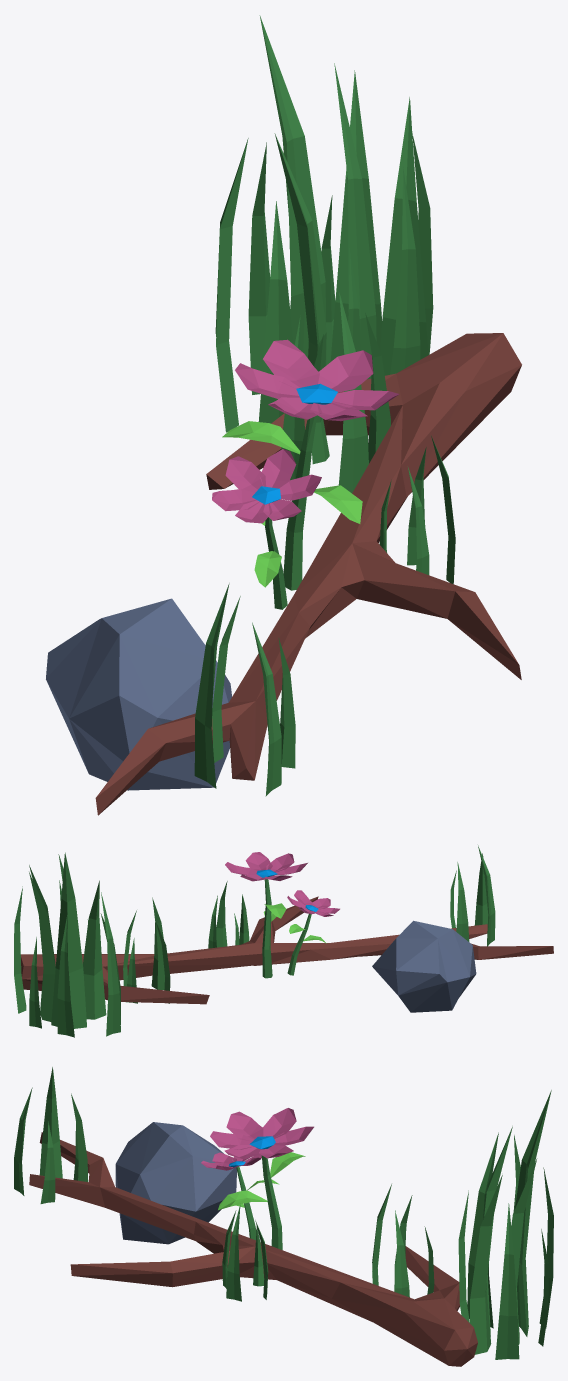
File: Branch04.fbx
3 renders of one model, top to bottom at view 1: azimuth 30°, elevation 25°; view 2: azimuth 150°, elevation 25°; view 3: azimuth 270°, elevation 25°, orthographic. The views are drawn at different scales.
Visible parts, largest first — view 1: Branch_04; view 2: Branch_04; view 3: Branch_04.
Part boxes in pixels (left/top/right/bottom): Branch_04: left=46, top=15, right=521, bottom=815; Branch_04: left=14, top=845, right=553, bottom=1037; Branch_04: left=14, top=1067, right=553, bottom=1366.
Bounding box in the file's own units: 97.06 × 53.27 × 96.82.
